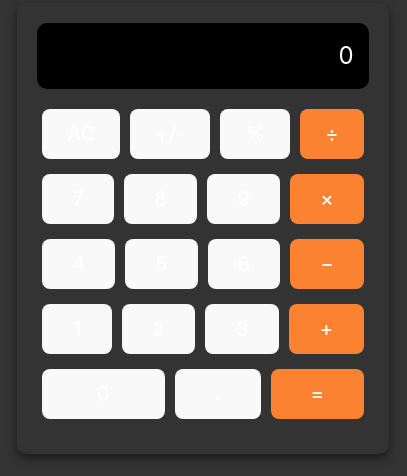
Scenario: Calculator App › Invierte el signo de la entrada correctamente
Click the button labelled "9" at (244, 198), box left=207, top=174, right=280, bottom=224
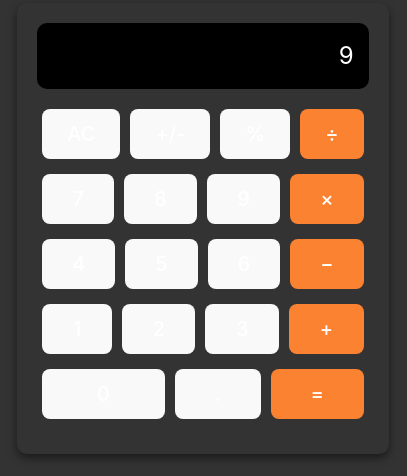
Click the button named "toggle sign" at (170, 134), box left=130, top=108, right=210, bottom=158
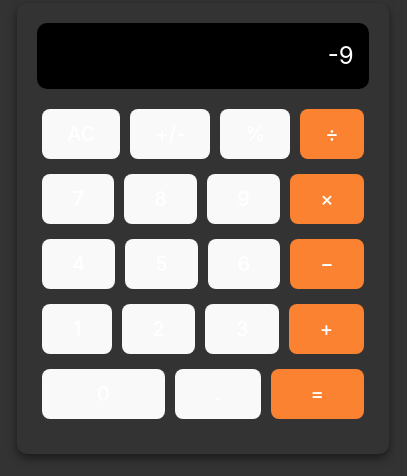
Now the text with class "display" reads "-9", box left=328, top=40, right=354, bottom=70
